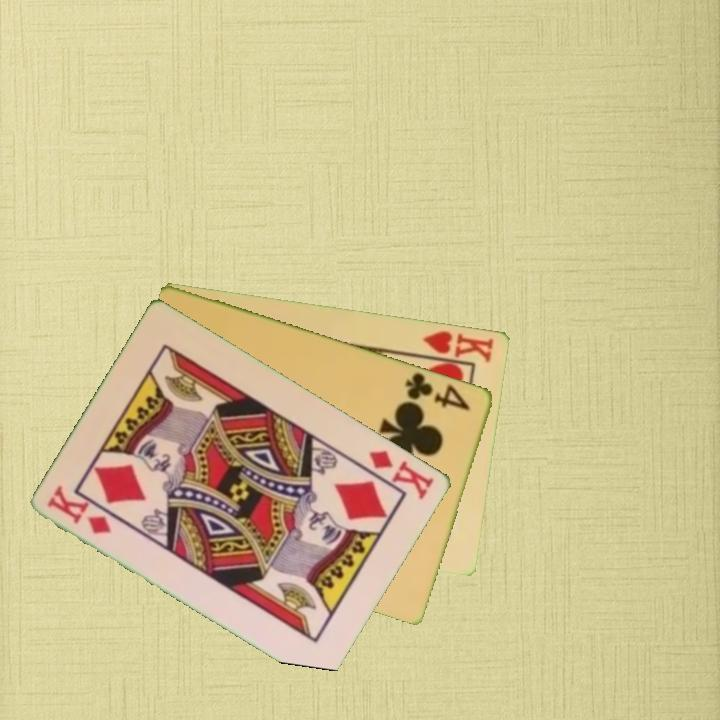4c: (402, 368, 473, 413)
Kd: (366, 446, 438, 503), (44, 482, 116, 537)
Kh: (413, 327, 497, 365)
